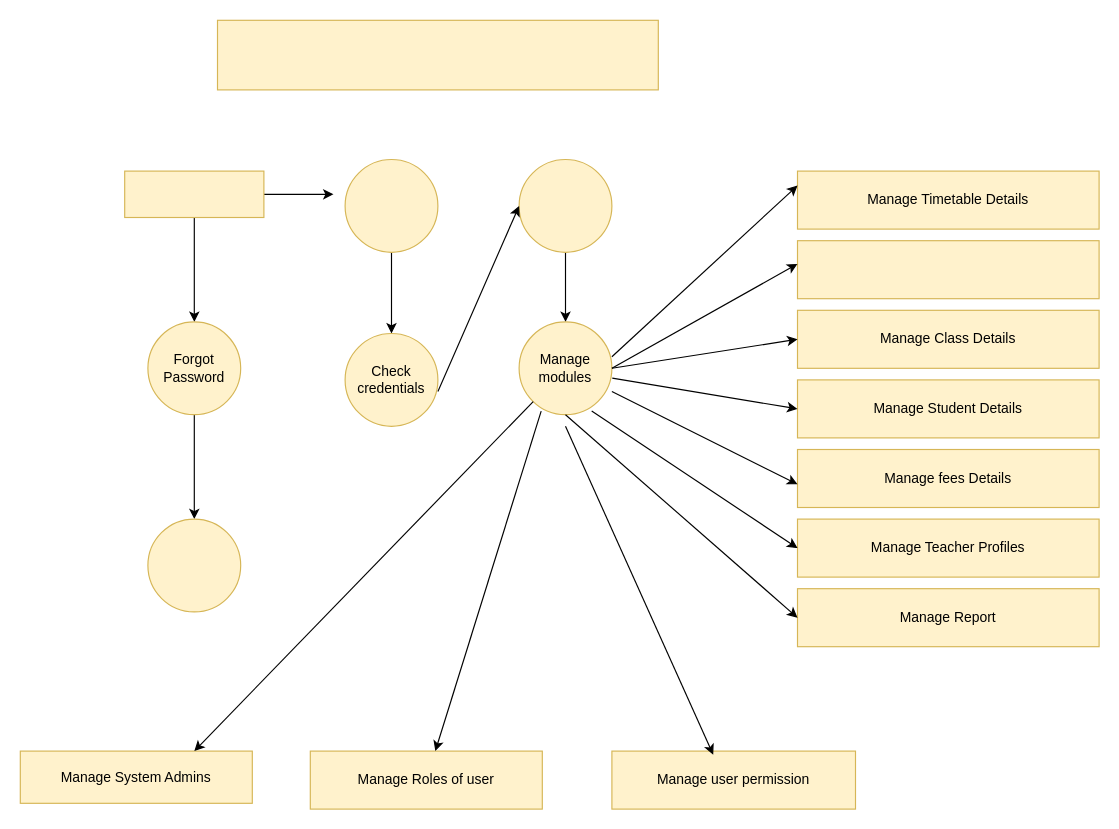
The diagram is 1119 pixels wide and 829 high, and some of its shapes have lost their labels. The box of each missing label's shape, as (x1, y1, x2, y2) in pixels:
Admin: (124, 170, 264, 217)
Check Roles of Access: (518, 158, 612, 252)
Login to System: (344, 158, 438, 252)
Manage Attendance Details: (796, 240, 1099, 299)
Send Email to user: (147, 518, 241, 612)
